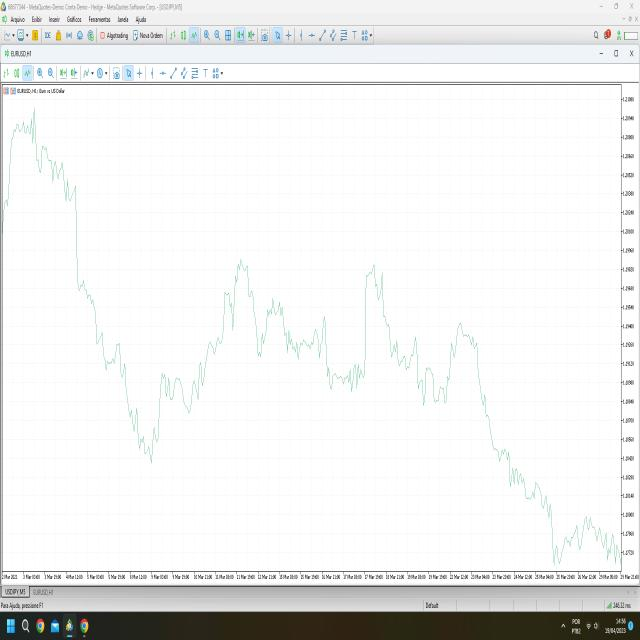bandeira_alta: (154, 363, 197, 457)
bandeira_baixa: (73, 168, 99, 320)
